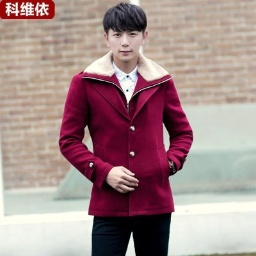face: (103, 3, 148, 63)
